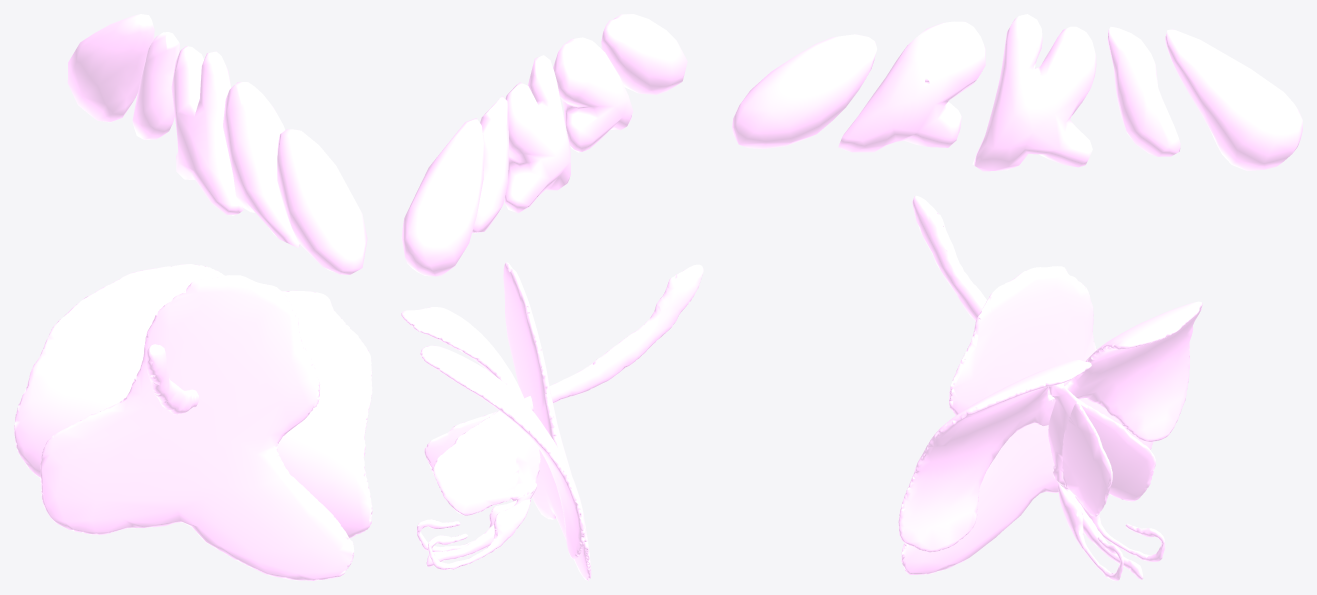
Rendered from orchid2.glb.
The picture shows the model from 3 angles, left to right: view 1: azimuth 30°, elevation 25°; view 2: azimuth 150°, elevation 25°; view 3: azimuth 270°, elevation 25°; orthographic projection. The views are drawn at different scales.
Parts seen in each view (by area): view 1: mm_frame, mm_frame (5); view 2: mm_frame, mm_frame (5); view 3: mm_frame, mm_frame (5).
Part boxes in pixels (x1,y1,x2,y2): mm_frame: (14, 264, 372, 580); mm_frame (5): (67, 14, 367, 274); mm_frame: (401, 262, 703, 580); mm_frame (5): (401, 14, 687, 276); mm_frame: (898, 195, 1202, 580); mm_frame (5): (732, 14, 1302, 171).
Bounding box in the file's own units: 4.34 × 8.32 × 8.09.
